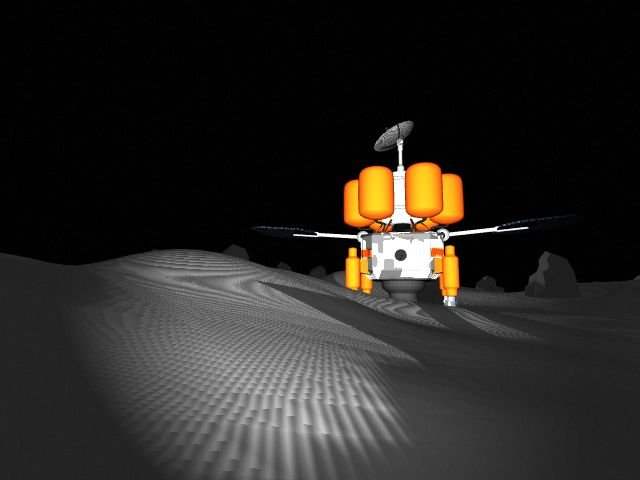homebase: (249, 119, 567, 309)
